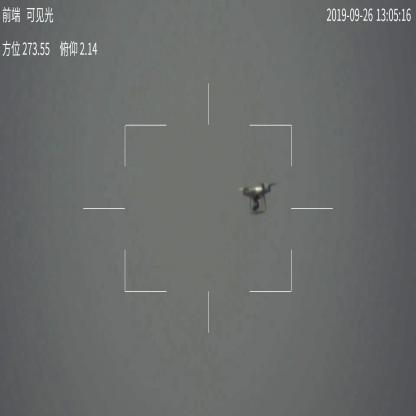uav: (233, 183, 276, 218)
